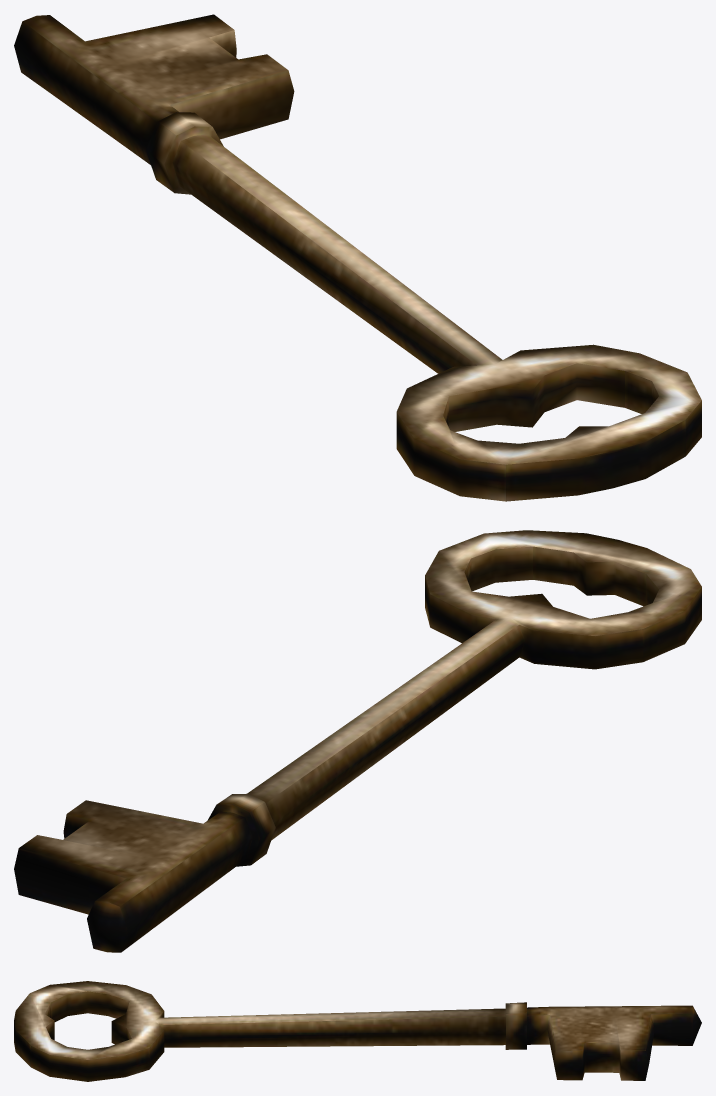
File: item_secret_mine_door_key.dae
3 renders of one model, top to bottom at view 1: azimuth 30°, elevation 25°; view 2: azimuth 150°, elevation 25°; view 3: azimuth 270°, elevation 25°, orthographic. The views are drawn at different scales.
Visible parts, largest first — view 1: key; view 2: key; view 3: key.
Boxes of the visible parts, x1,y1,x2,y2 form: key: (14, 14, 701, 501); key: (14, 530, 701, 952); key: (14, 981, 701, 1081).
Size of what is drawn, in the model's own units: 0.072 by 0.0176 by 0.2649.
